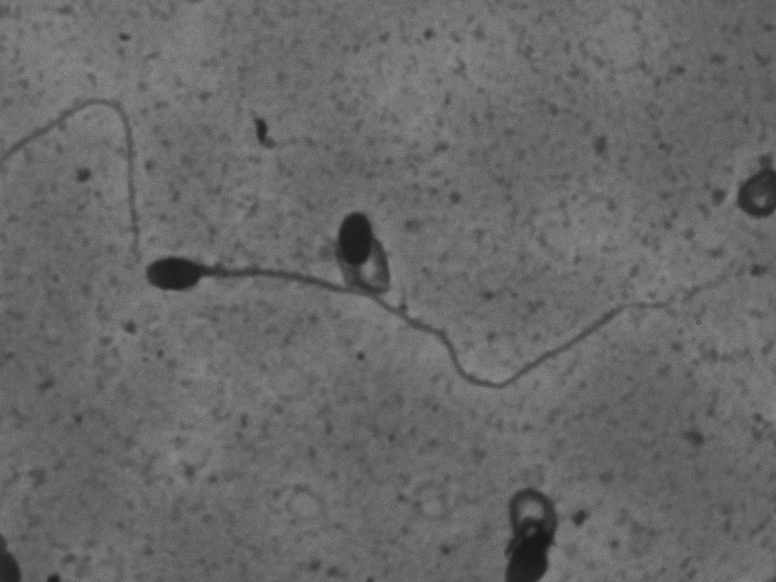Abnormal: (325, 198, 402, 301)
Normal: (139, 245, 685, 417)
